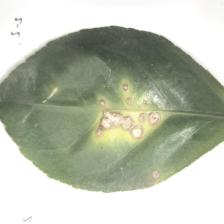canker: (81, 85, 152, 139)
